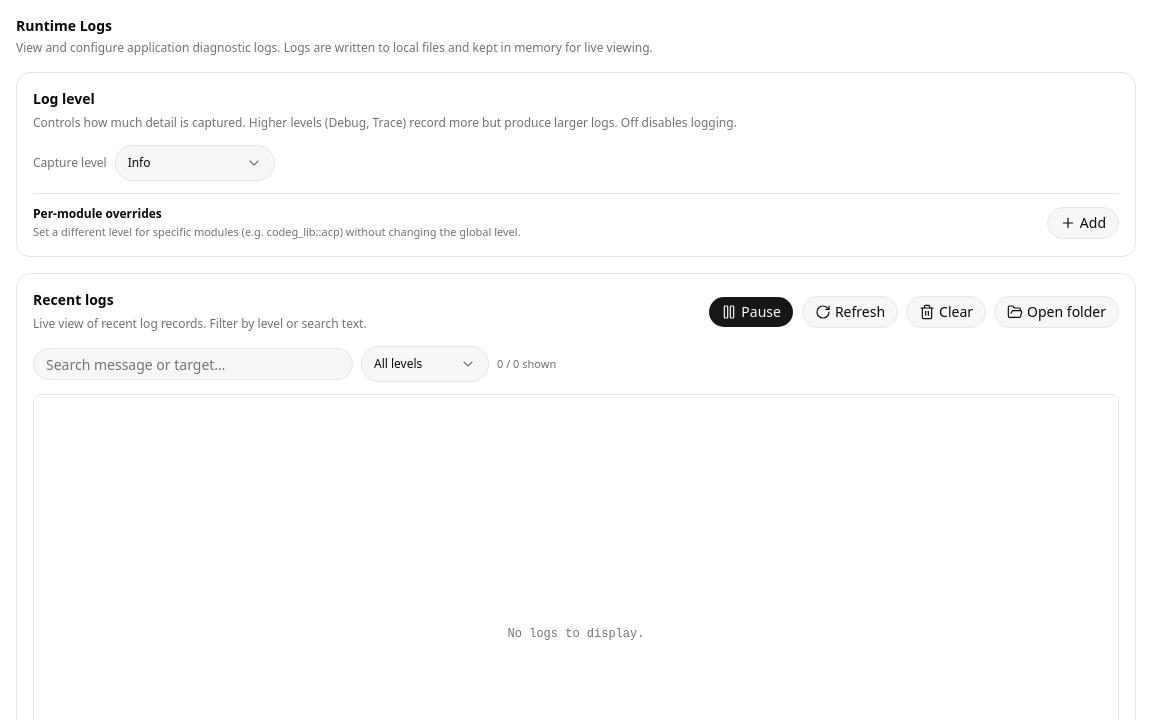
Test: LogsSettings › re-schedules flushes after toggling live tail off and back on
Click the button "Pause".
click(751, 312)  # box [708,296,794,328]
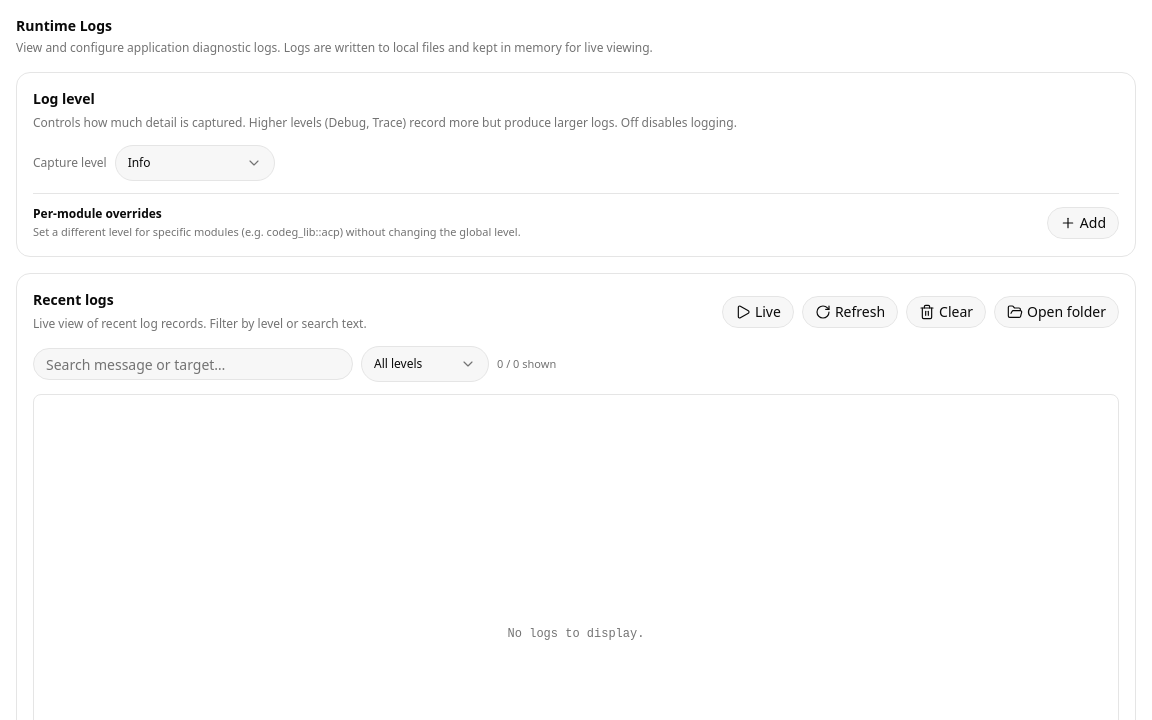
Click the button "Live".
click(758, 312)  # box [722,296,794,328]
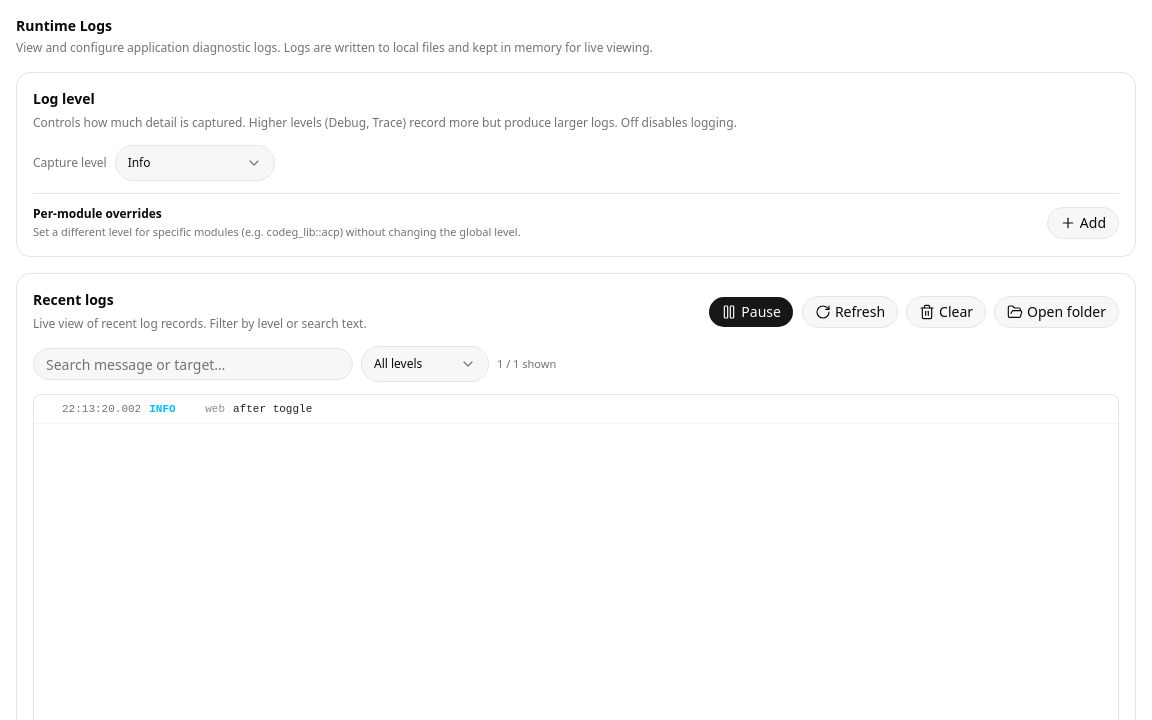
Result: the text "after toggle" is shown at [233,399,312,419]
